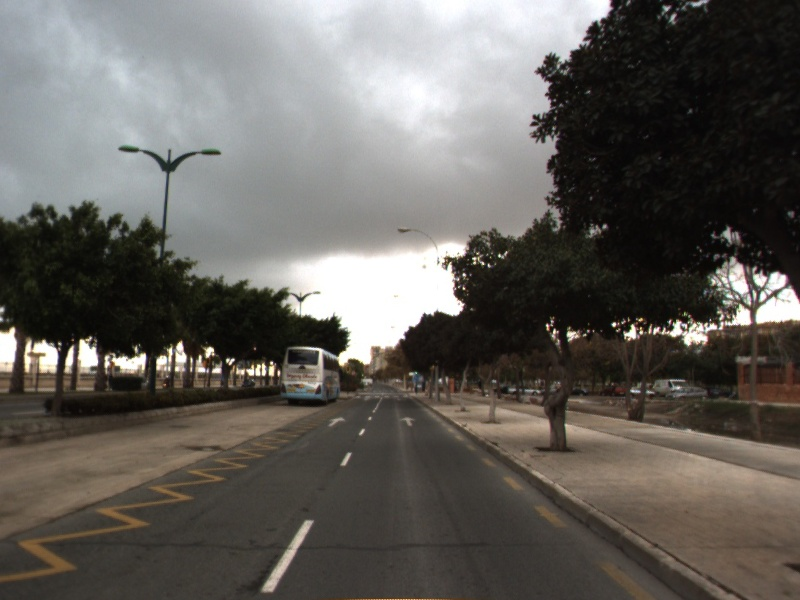STRAIGHT: (396, 415, 418, 428), (326, 415, 348, 428)
